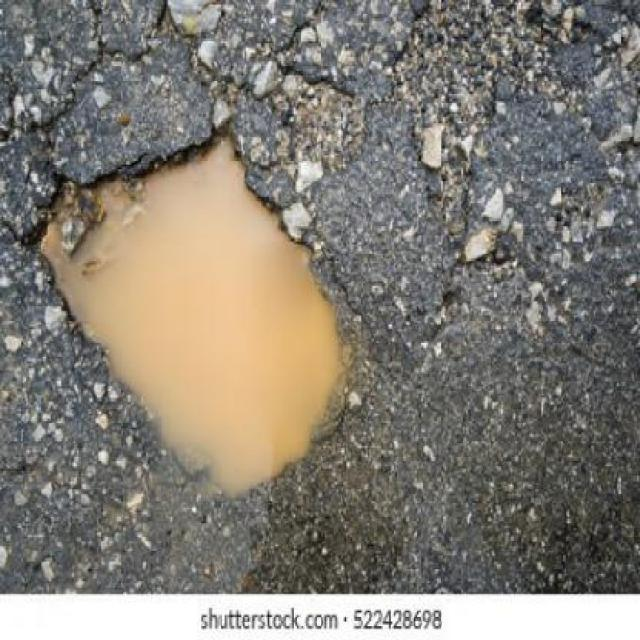Buraco: (18, 123, 358, 503)
